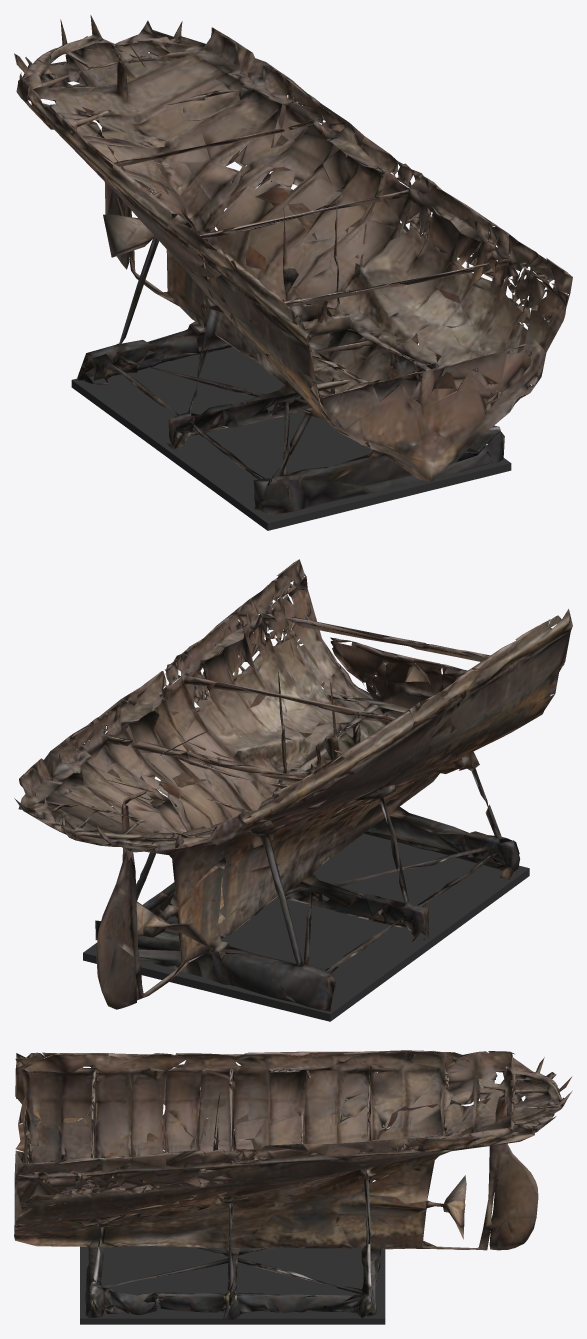
Rendered from prop-shipwreck-stern.glb.
3 views of the same model, one above another, from view 1: azimuth 30°, elevation 25°; view 2: azimuth 150°, elevation 25°; view 3: azimuth 270°, elevation 25° (orthographic). The views are drawn at different scales.
Parts seen in each view (by area): view 1: default_Material #25_0 (×3), Box001; view 2: default_Material #25_0 (×3), Box001; view 3: default_Material #25_0 (×3), Box001.
Part boxes in pixels (box(x1,y1,x2,y2)): default_Material #25_0 (×3): box(14, 15, 572, 514); Box001: box(71, 347, 511, 530); default_Material #25_0 (×3): box(14, 559, 572, 1011); Box001: box(83, 833, 529, 1021); default_Material #25_0 (×3): box(14, 1050, 572, 1319); Box001: box(80, 1246, 385, 1324).
Size of the model in its own units: 3.19 by 3.19 by 7.41.
2 materials, 1 textured.
